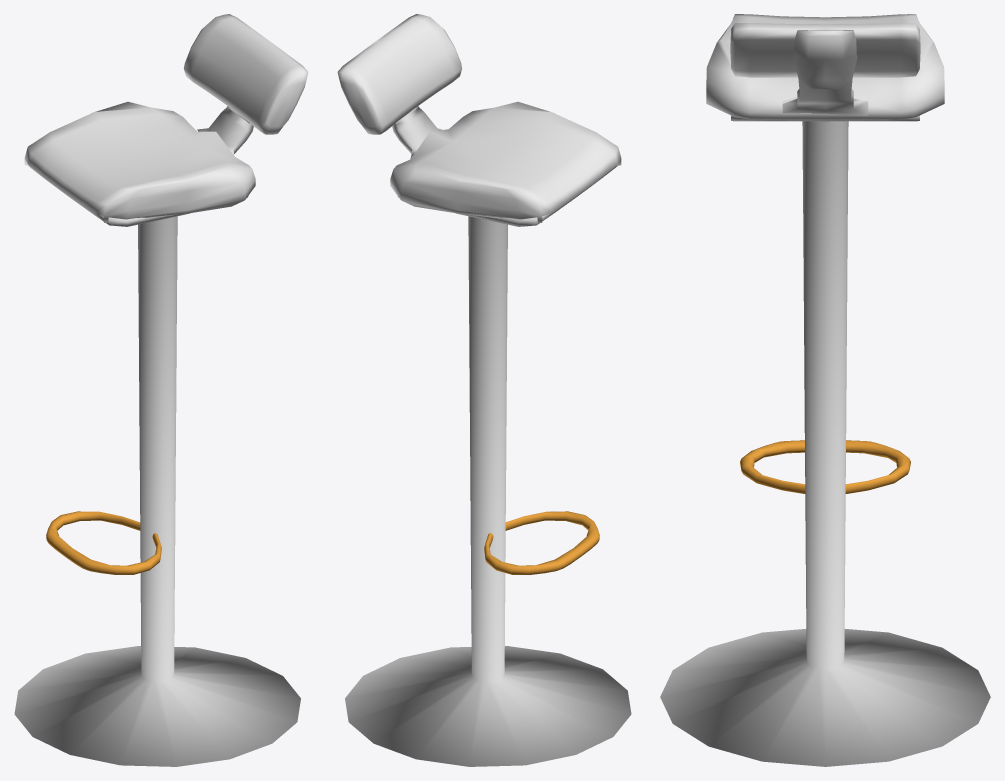
The model's file is Barstool.fbx.
The picture shows the model from 3 angles, left to right: view 1: azimuth 30°, elevation 25°; view 2: azimuth 150°, elevation 25°; view 3: azimuth 270°, elevation 25°; orthographic projection. The views are drawn at different scales.
Parts seen in each view (by area): view 1: Barstool; view 2: Barstool; view 3: Barstool.
Boxes of the visible parts, <box> form: Barstool: <box>14,14,308,766</box>; Barstool: <box>337,14,631,766</box>; Barstool: <box>660,14,990,766</box>.
Bounding box in the file's own units: 54.91 × 134 × 54.91.
